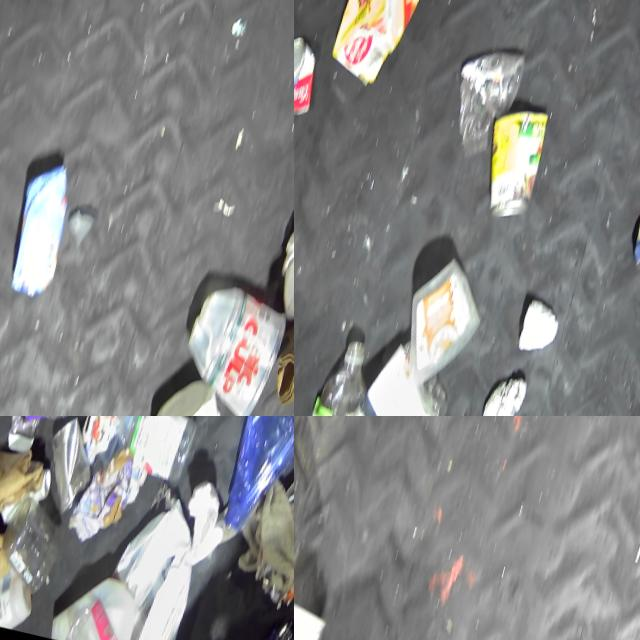can: (468, 97, 552, 227), (32, 416, 103, 516), (251, 457, 294, 616), (294, 30, 325, 134), (620, 198, 640, 296)
milk_jug: (112, 487, 201, 596), (46, 566, 143, 640), (0, 564, 37, 633)
non_white_jug: (0, 153, 80, 305)
plastic_bottle: (298, 328, 383, 416)
